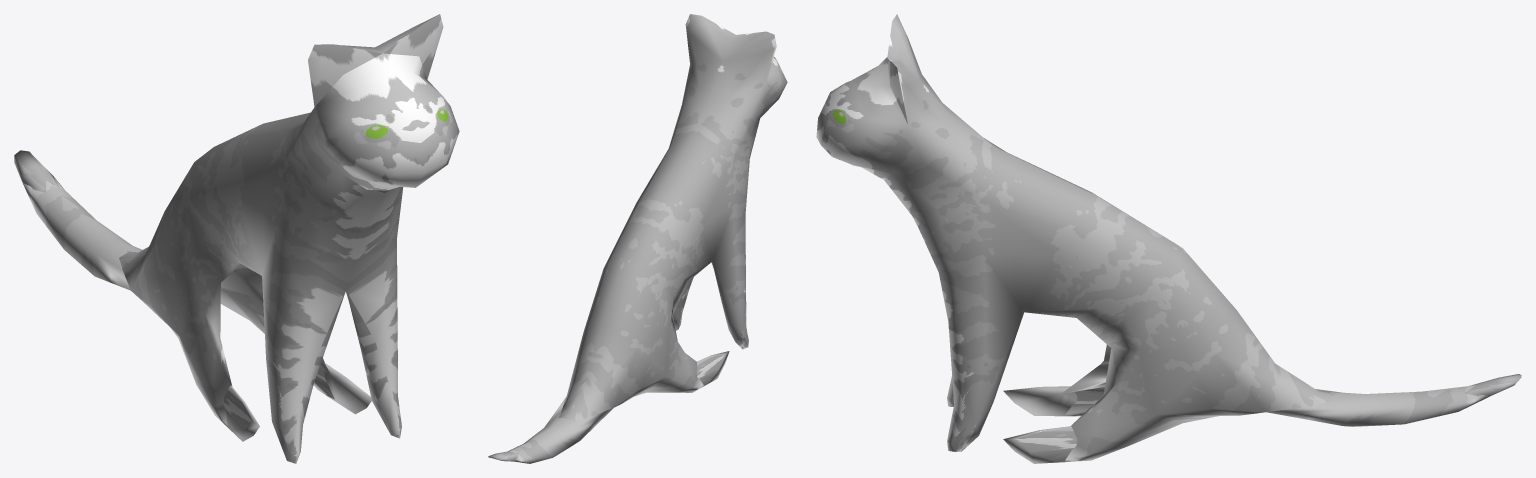
The model's file is cat-sitting.glb.
3 views of the same model, side by side, from view 1: azimuth 30°, elevation 25°; view 2: azimuth 150°, elevation 25°; view 3: azimuth 270°, elevation 25° (orthographic). The views are drawn at different scales.
Visible parts, largest first — view 1: cat; view 2: cat; view 3: cat.
Boxes of the visible parts, x1,y1,x2,y2 form: cat: (14,14,459,463); cat: (488,14,787,463); cat: (816,14,1521,463).
Size of the model in its own units: 0.5677 by 1.82 by 2.92.
1 material, 1 textured.
